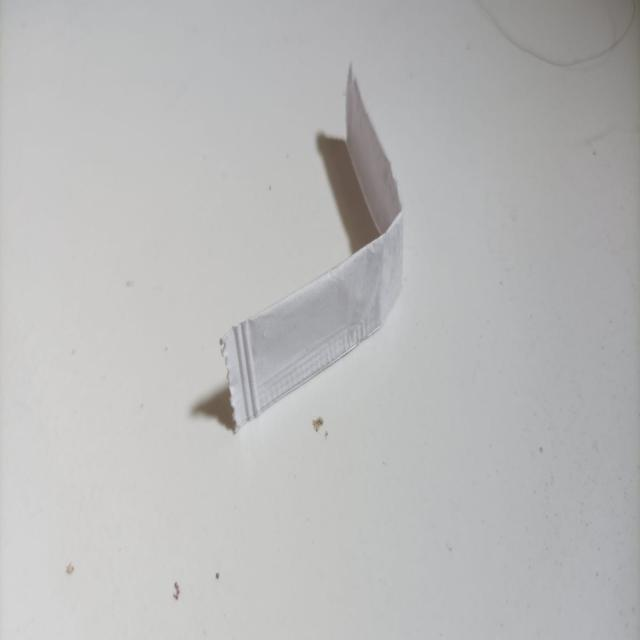Organik: (223, 64, 402, 434)
